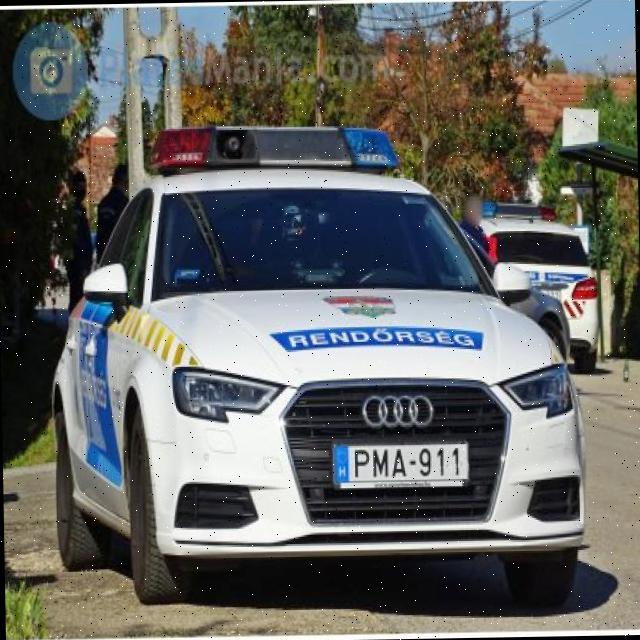licence: (335, 440, 471, 492)
